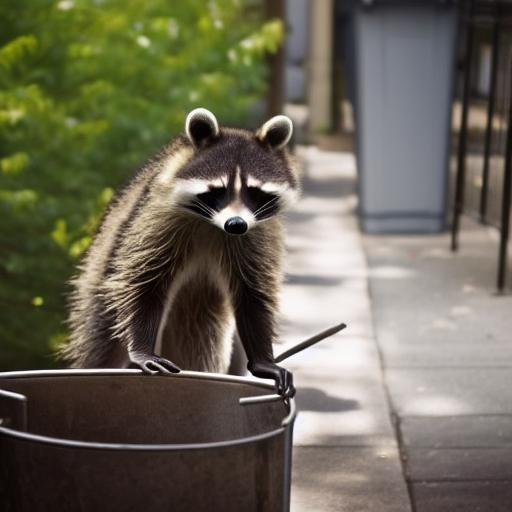raccoon: (56, 102, 309, 371)
